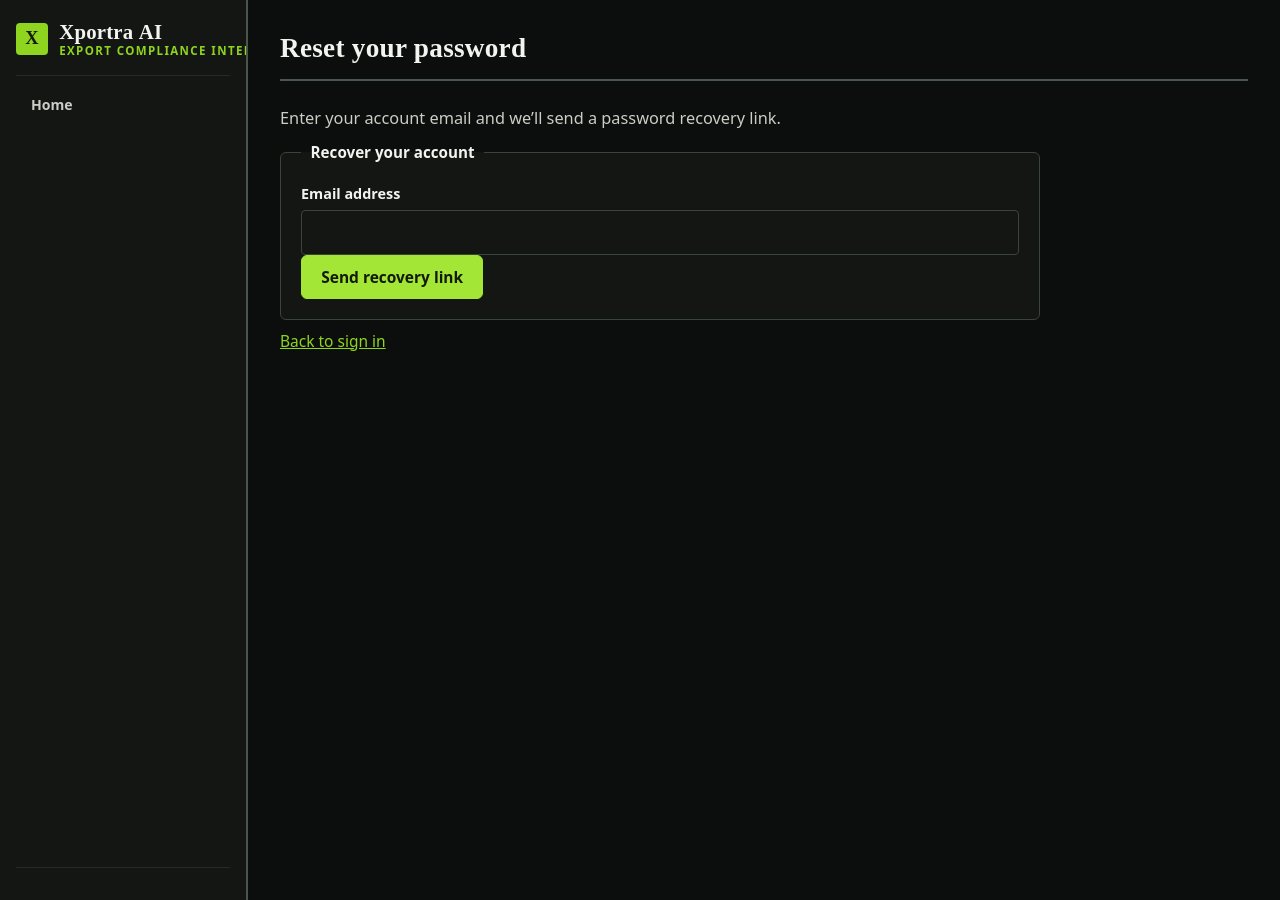
Test: ResetPasswordPage › sends a recovery request and shows an account-neutral confirmation
Type "owner@example.com" into the field labelled "Email address" at (660, 233), box 301,210 -> 1019,255
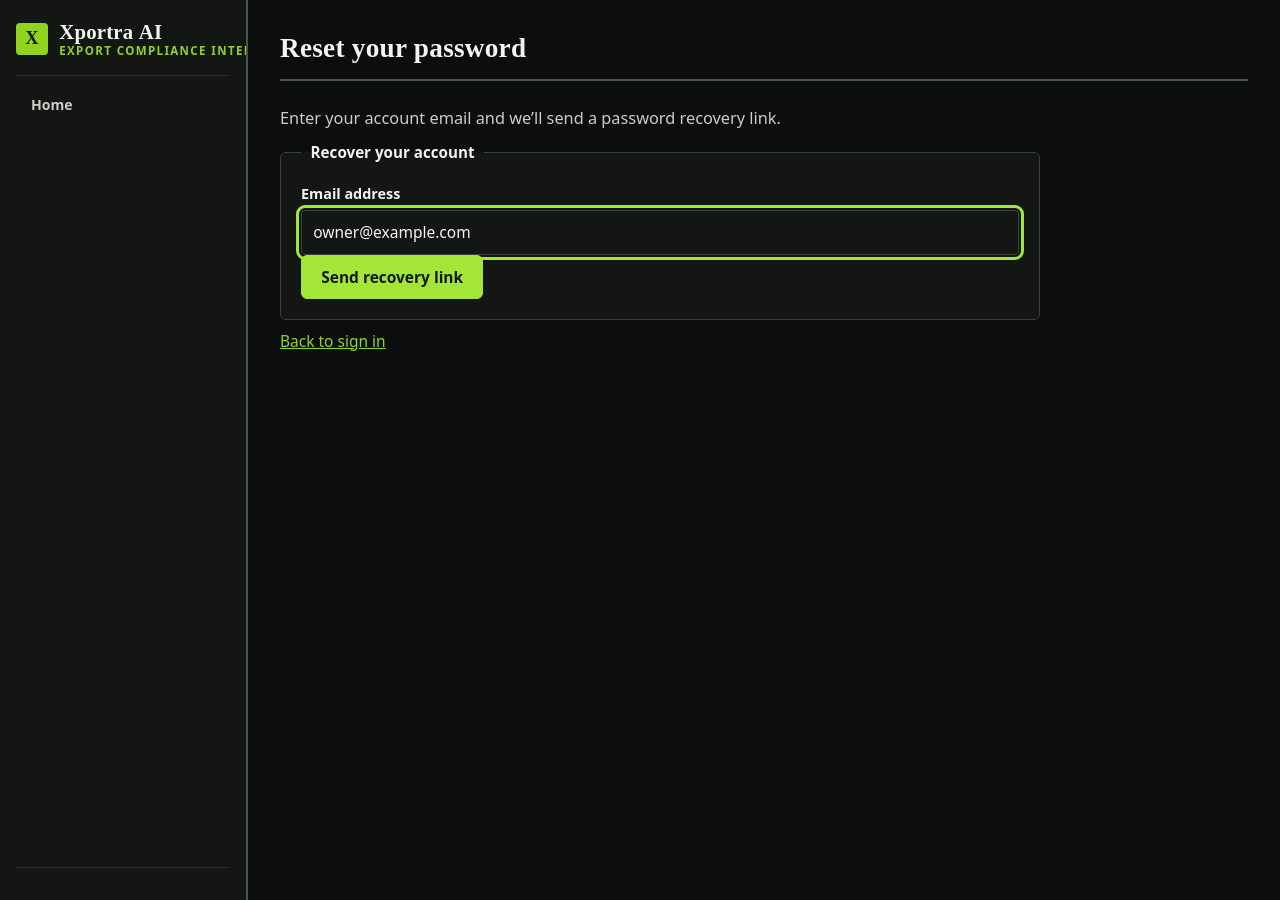
Click the button "Send recovery link" at (392, 277), box 301,255 -> 483,299
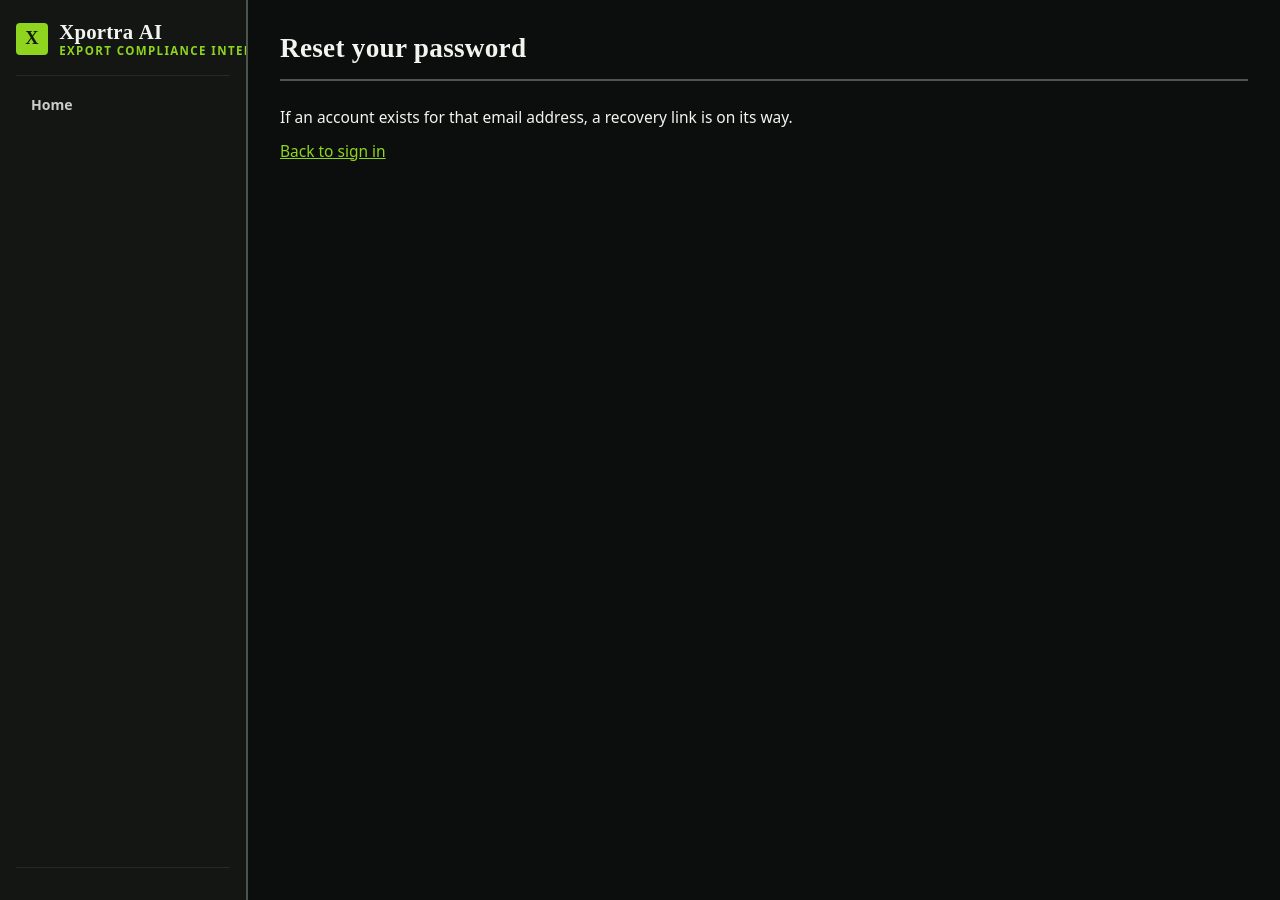
Expected: the text "owner@example.com" is not shown
Result: the message shows "If an account exists" at 280,106 -> 793,128
